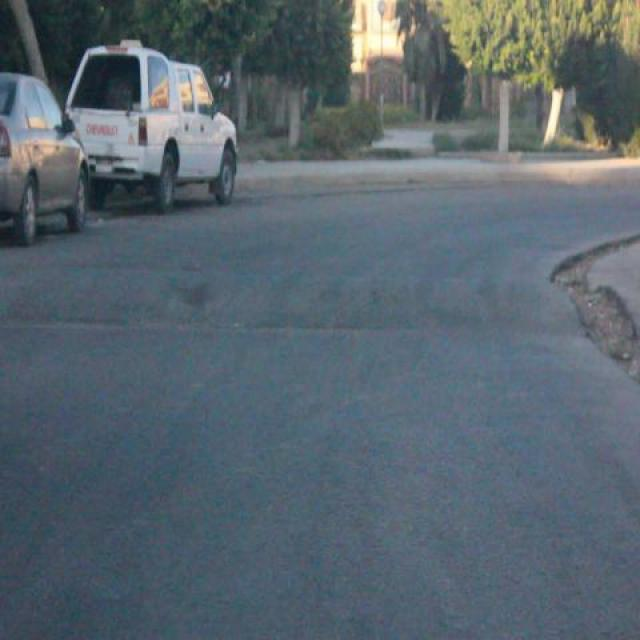Pothole: (562, 276, 640, 366)
Unmarked Bump: (0, 270, 588, 337)
